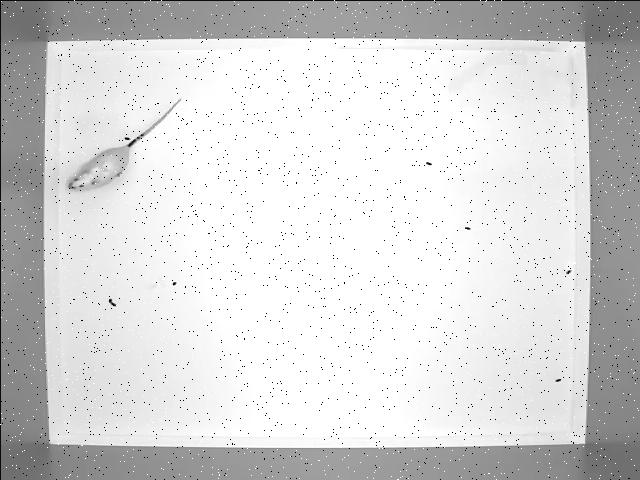Tikus: (44, 96, 182, 191)
